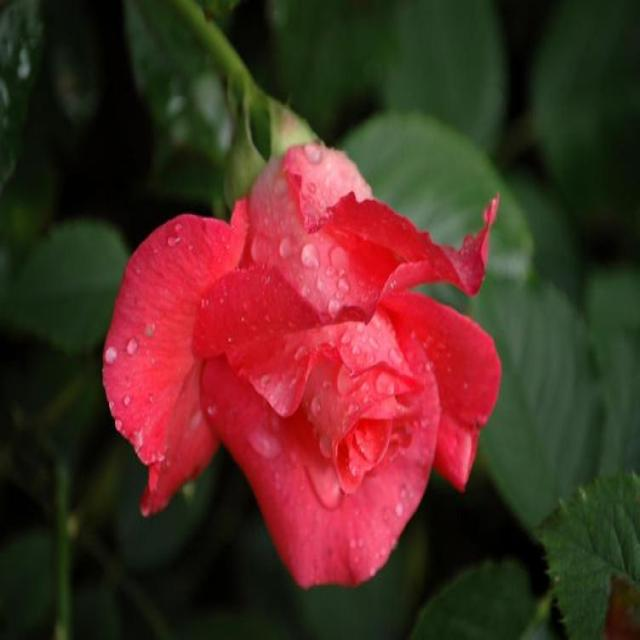rose: (90, 95, 518, 600)
